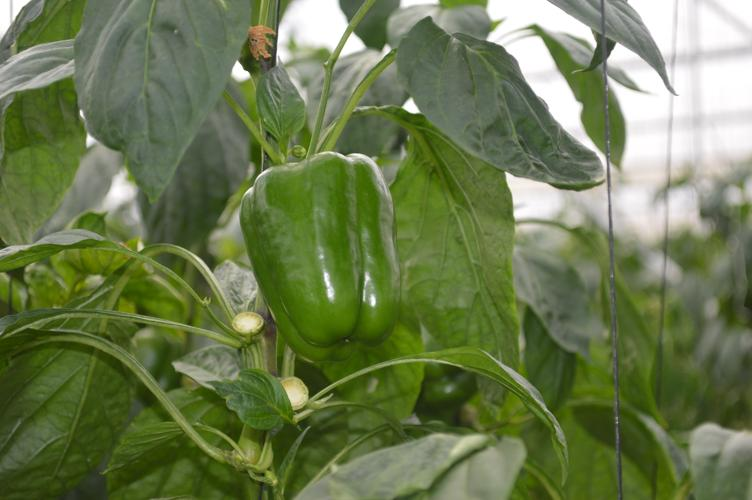BellPepper: (241, 150, 408, 350)
